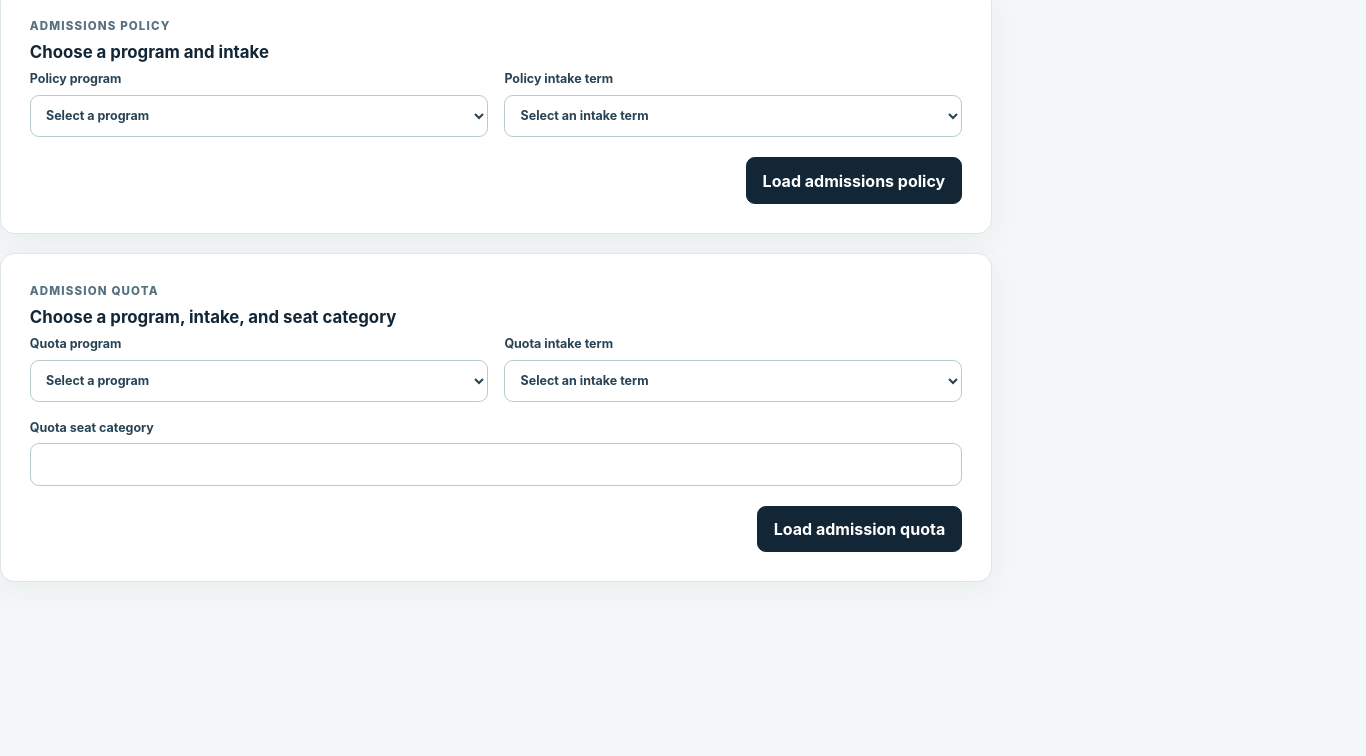
Test case: AdmissionsPolicyAdministration › creates a quota with a generated identifier and updates an existing one in place
Select "Computer Science" in the dropdown labelled "Quota program" at (259, 381), box [30,360,488,402]
Select "Autumn 2026" in the dropdown labelled "Quota intake term" at (733, 381), box [504,360,962,402]
Type "general" into the field labelled "Quota seat category".
click(496, 464); type("general")  # box [30,443,962,486]
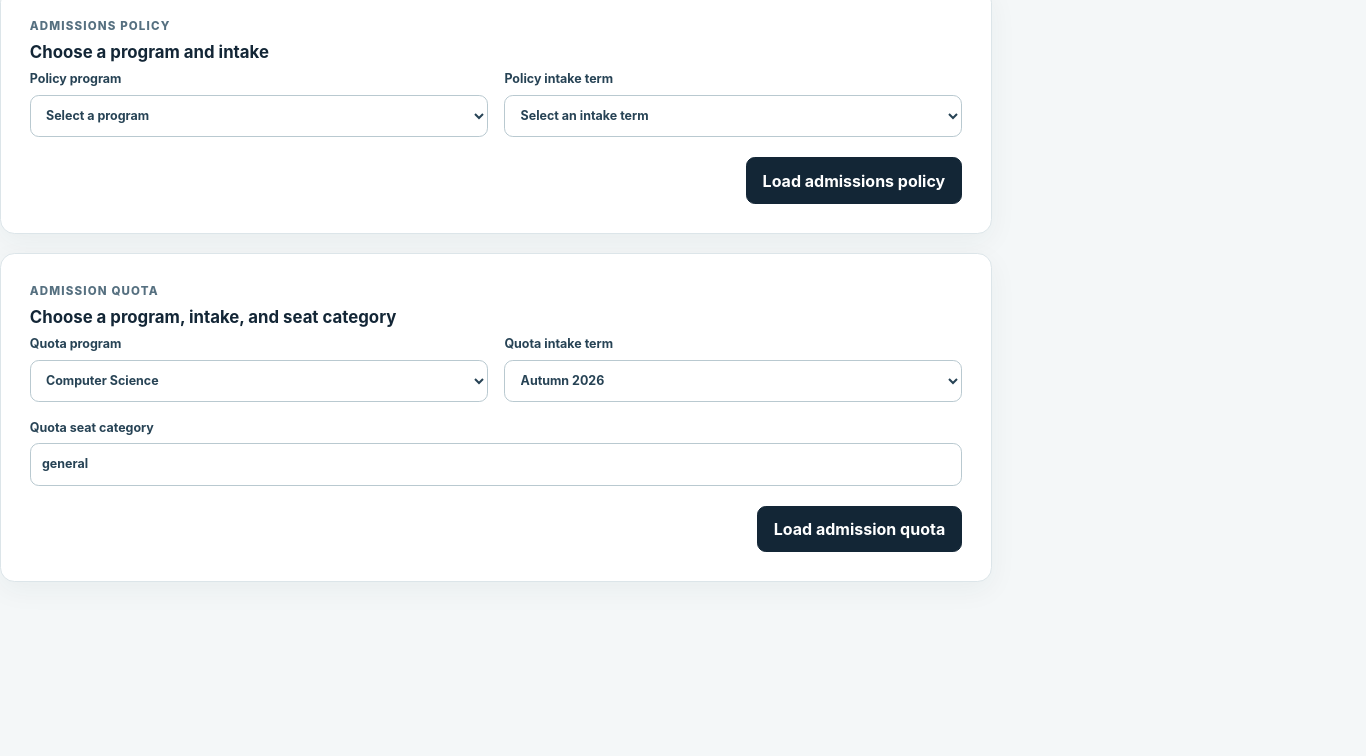
Click the button "Load admission quota".
click(860, 529)  # box [757,506,962,552]
(page scrolled)
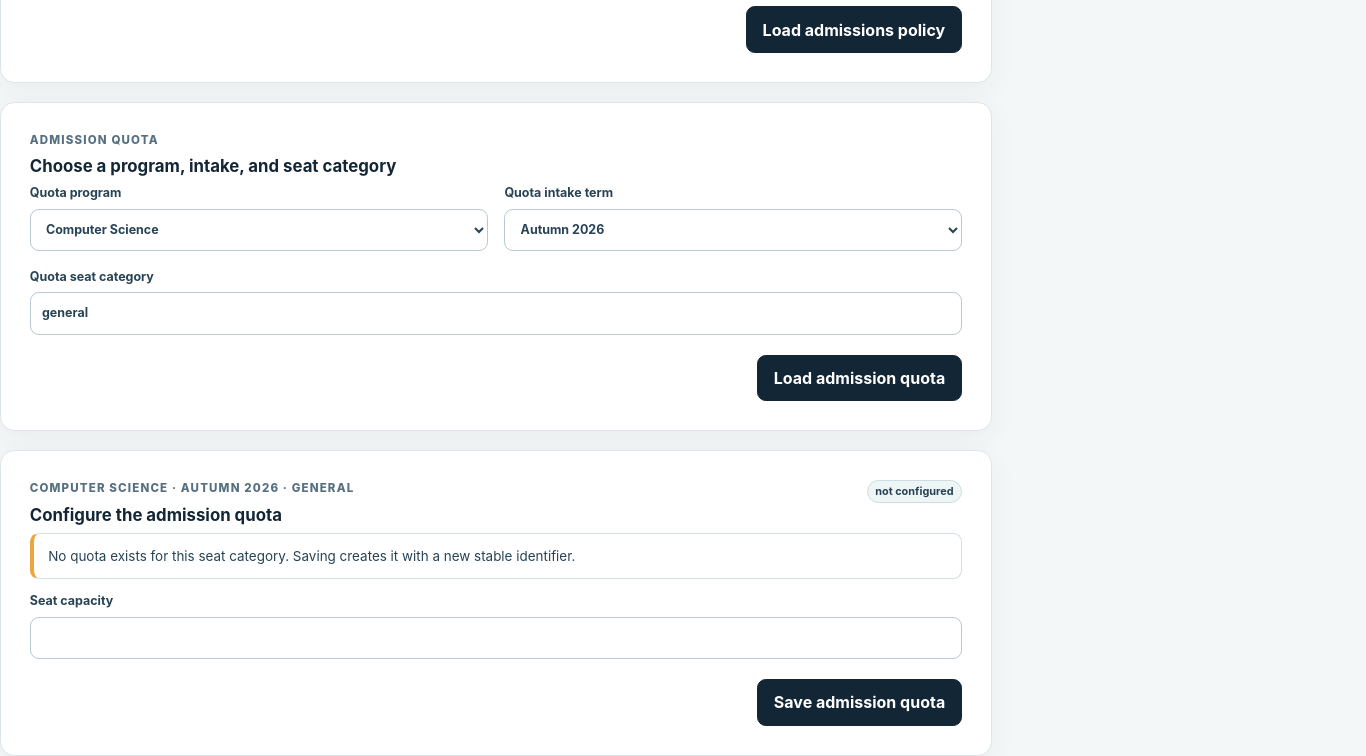
expect the text "No quota exists for this seat category. Saving creates it with a new stable identifier." is shown: met, box [48,548,575,564]
Type "40" into the number field labelled "Seat capacity".
click(496, 638); type("40")  # box [30,617,962,659]
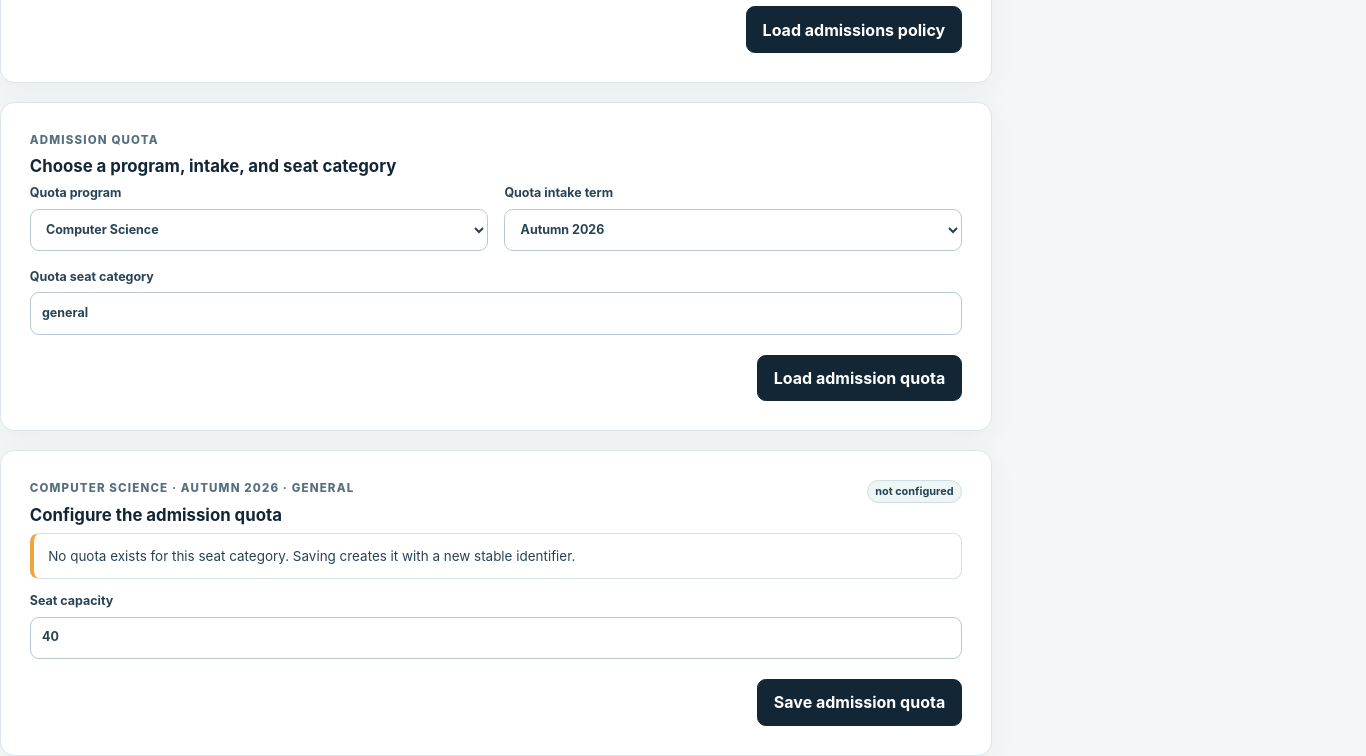
Click the button "Save admission quota".
click(860, 702)  # box [757,679,962,726]
(page scrolled)
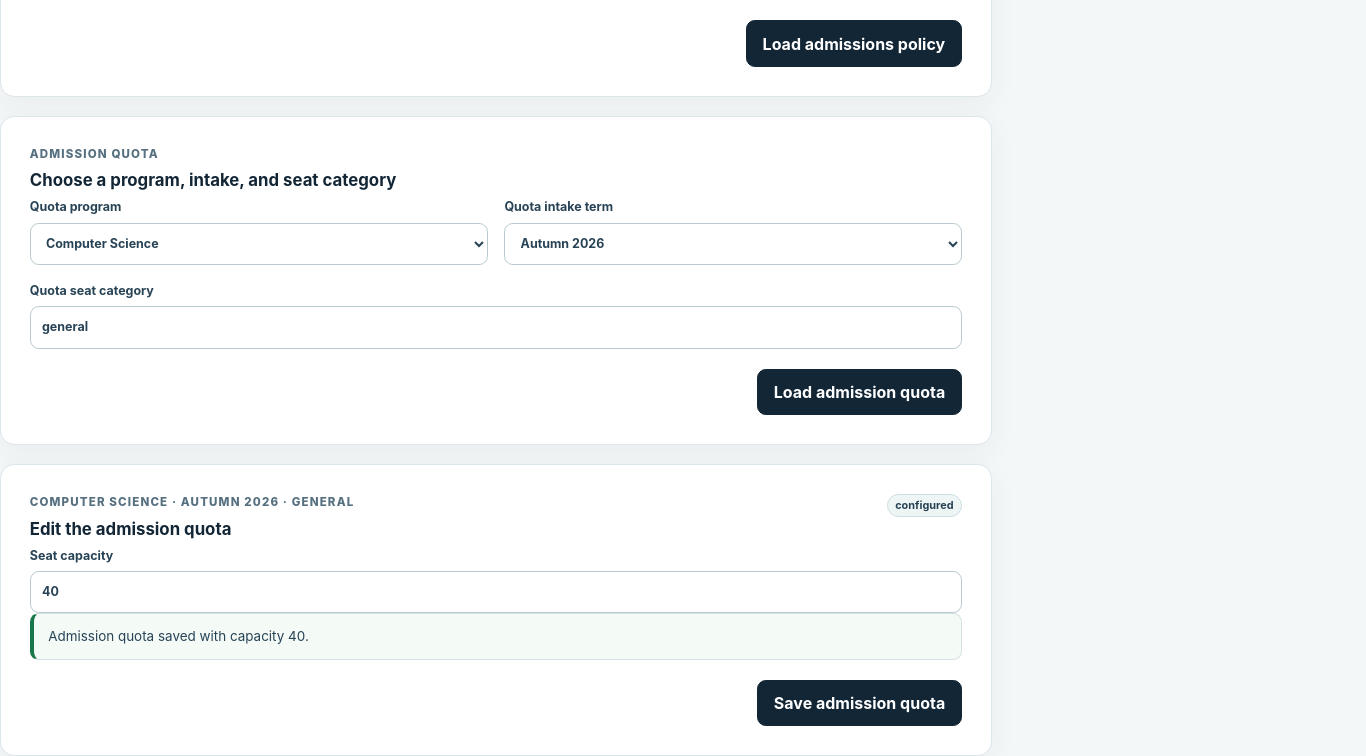
expect the text "configured" is shown: met, box [886,494,962,518]
expect the text "Admission quota saved with capacity 40." is shown: met, box [30,613,962,660]
Replace the text in the number field labelled "Seat capacity" with "45" at (496, 592), box [30,571,962,613]
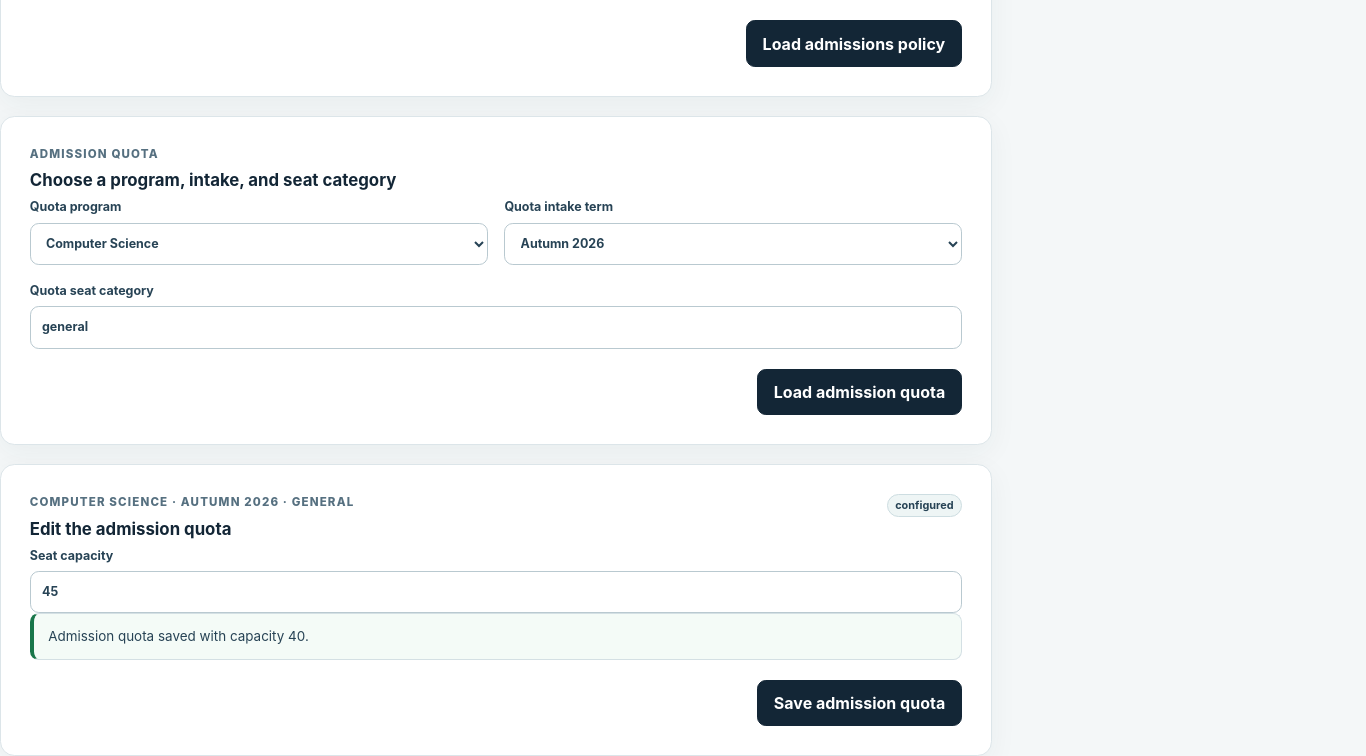
Click the button "Save admission quota".
click(860, 703)  # box [757,680,962,726]
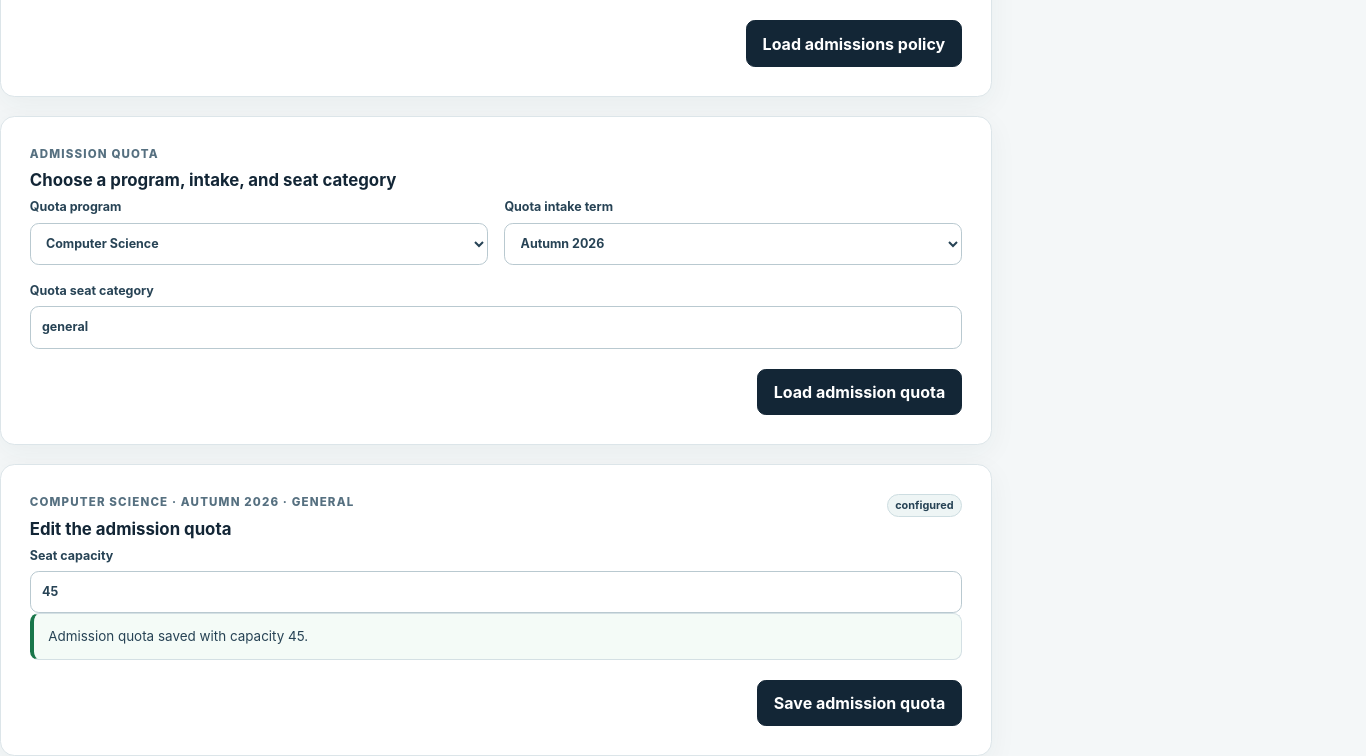
expect the text "Admission quota saved with capacity 45." is shown: met, box [30,613,962,660]
